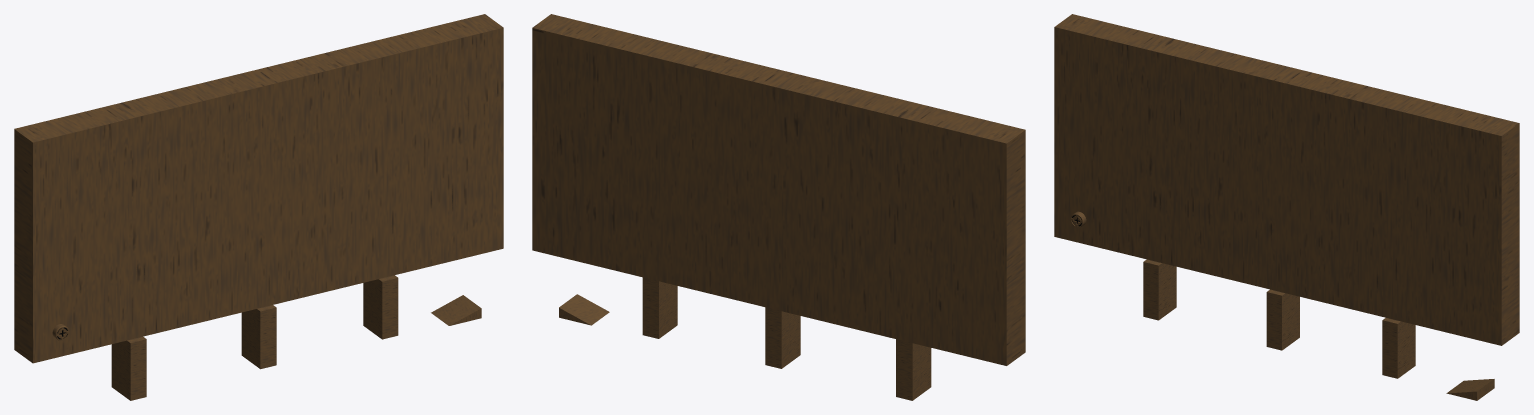
File: level11.fbx
3 views of the same model, side by side, from view 1: azimuth 30°, elevation 25°; view 2: azimuth 150°, elevation 25°; view 3: azimuth 330°, elevation 25° (orthographic). The views are drawn at different scales.
Parts seen in each view (by area): view 1: Plane.003, Cube.029, Cube.027, Cube.028, Ramp; view 2: Plane.003, Cube.029, Cube.027, Cube.028, Ramp; view 3: Plane.003, Cube.027, Cube.028, Cube.029, Ramp.
Part boxes in pixels (x1,y1,x2,y2): Plane.003: (14, 14, 503, 363); Cube.029: (363, 275, 398, 339); Cube.027: (241, 305, 276, 369); Cube.028: (111, 336, 146, 400); Ramp: (431, 295, 481, 325); Plane.003: (532, 14, 1025, 365); Cube.029: (642, 277, 677, 338); Cube.027: (765, 307, 800, 368); Cube.028: (896, 339, 931, 400); Ramp: (559, 294, 609, 325); Plane.003: (1054, 14, 1519, 345); Cube.027: (1266, 289, 1299, 350); Cube.028: (1143, 259, 1176, 320); Cube.029: (1382, 318, 1415, 378); Ramp: (1446, 379, 1494, 400).
Size of the model in its own units: 5800 by 468 by 3335.
